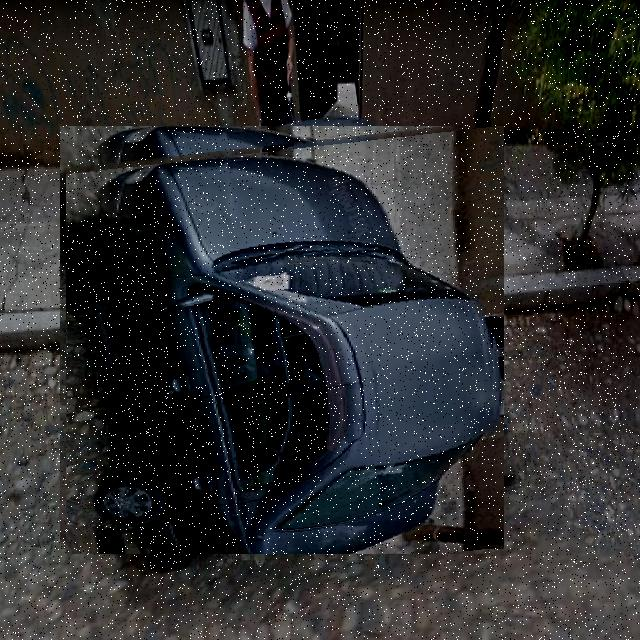car: (66, 121, 500, 555)
